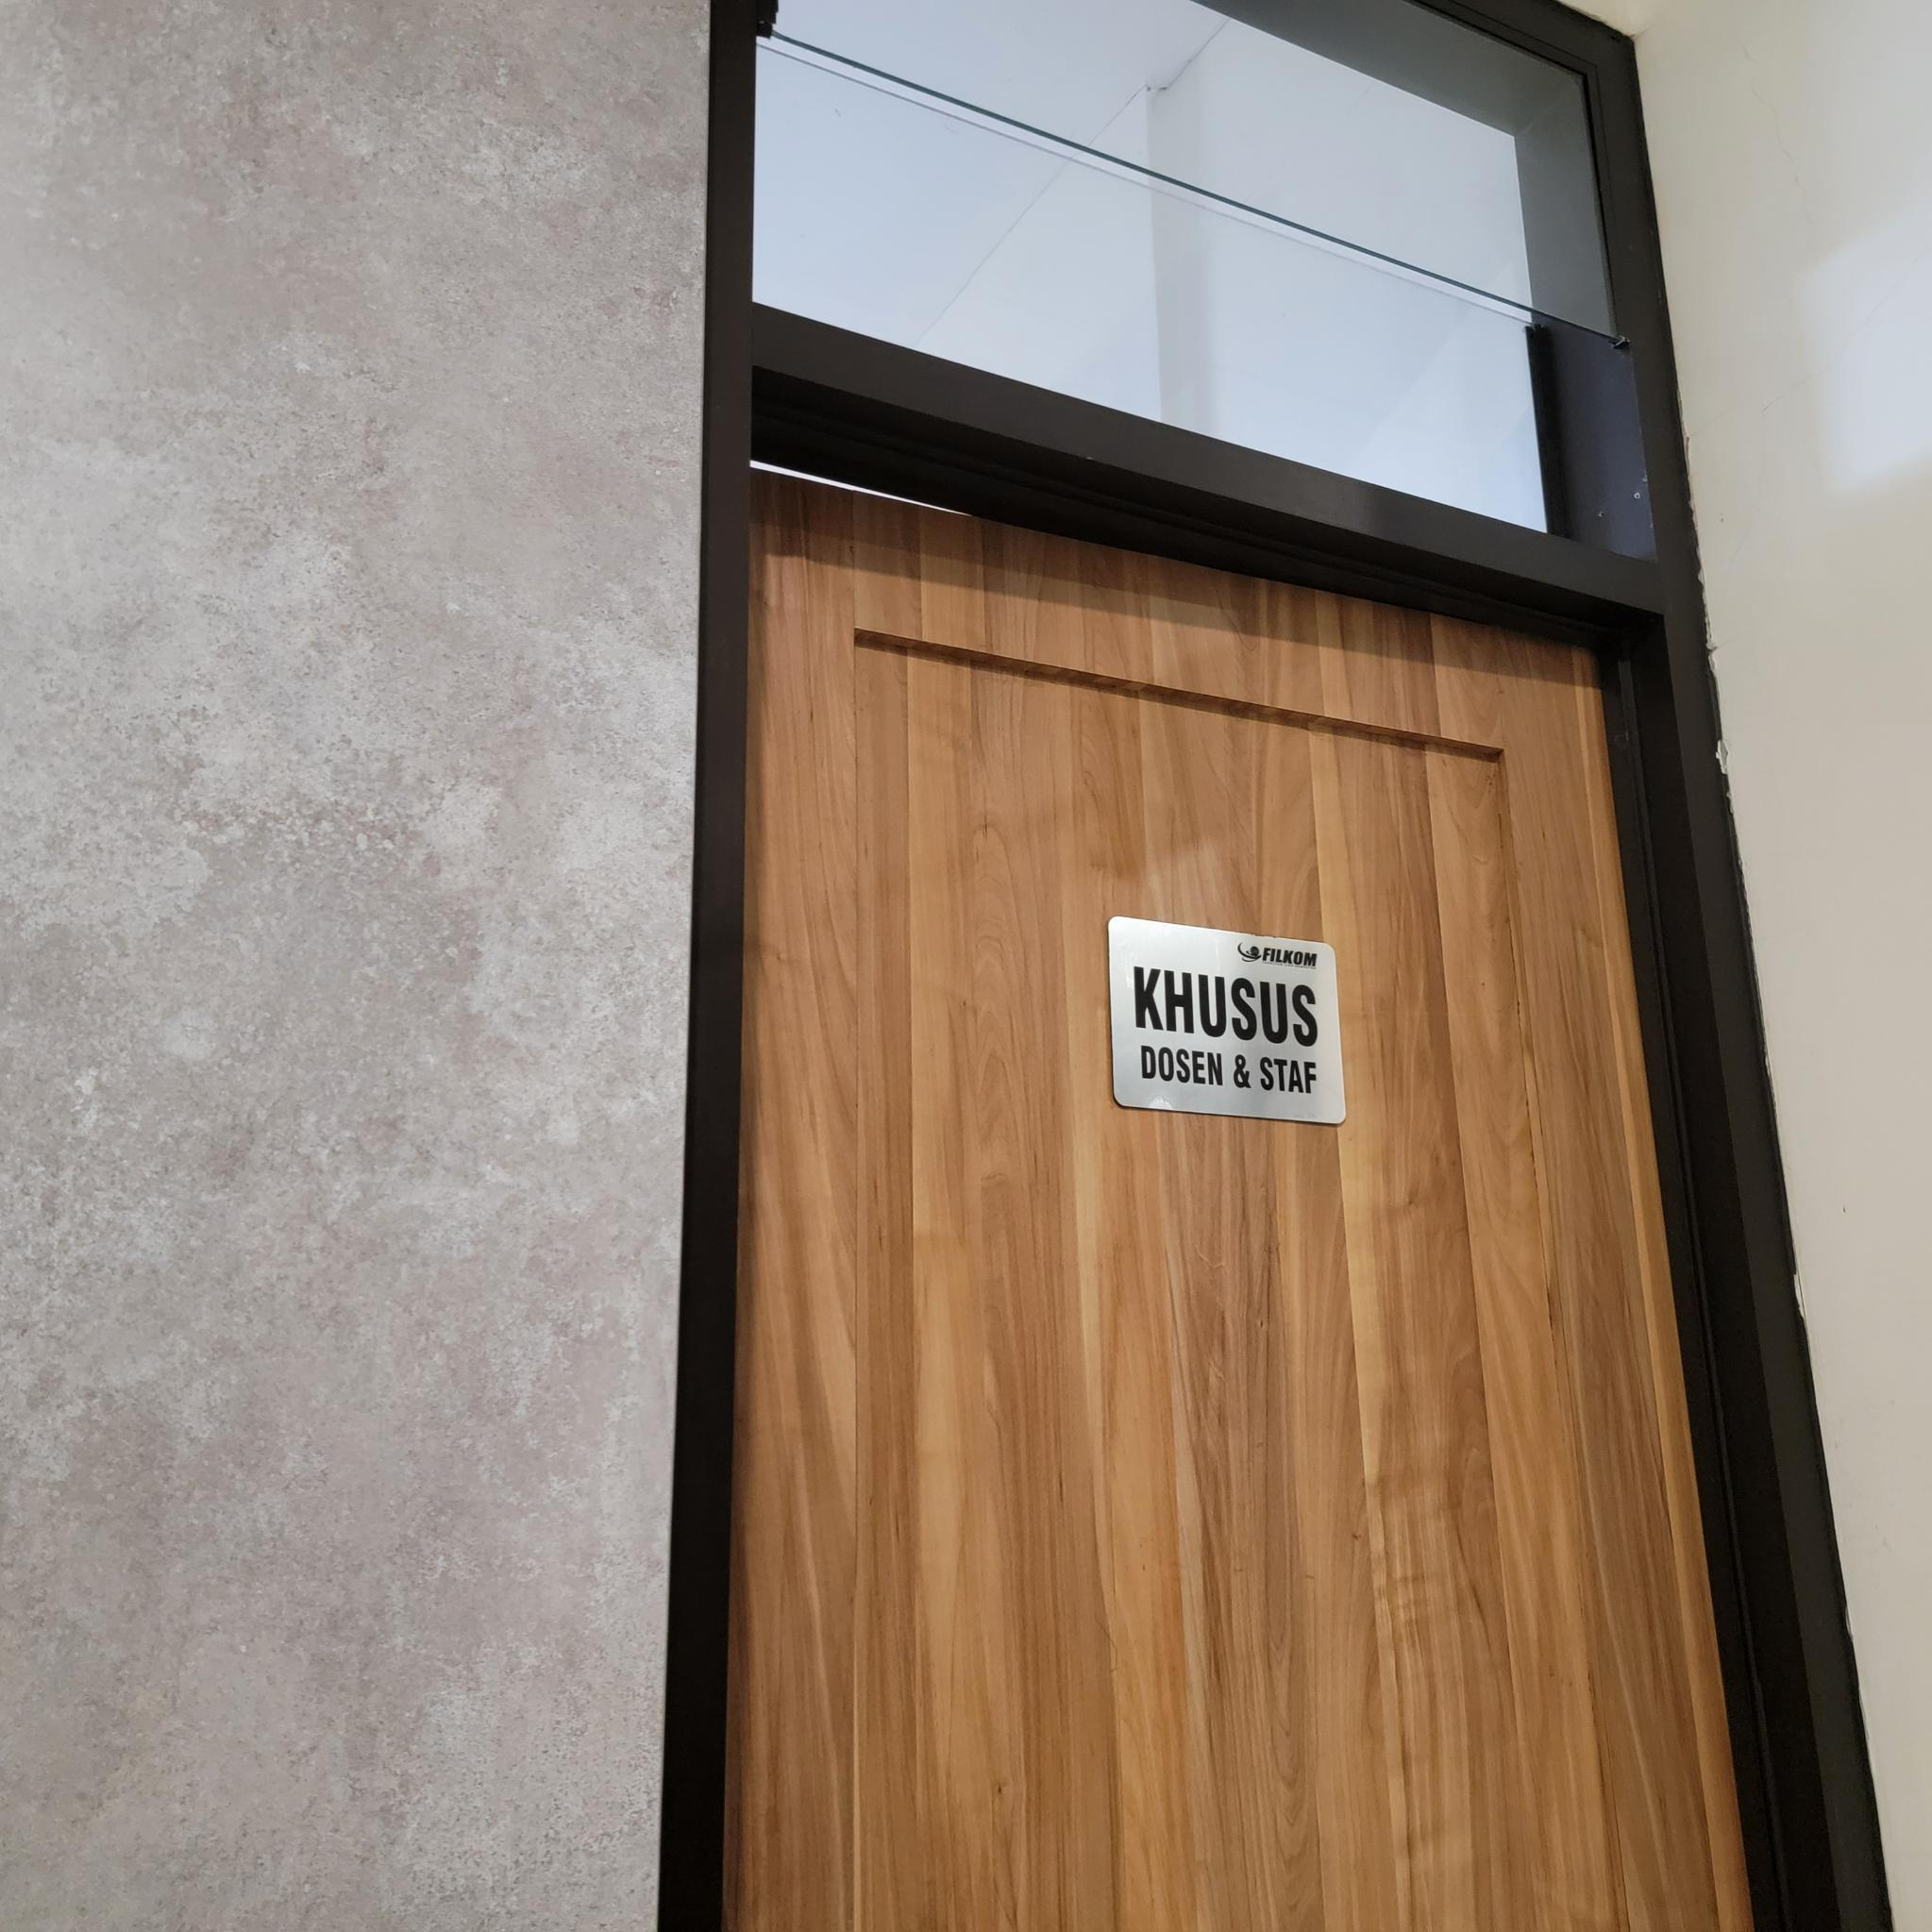plate: (1109, 913, 1348, 1127)
